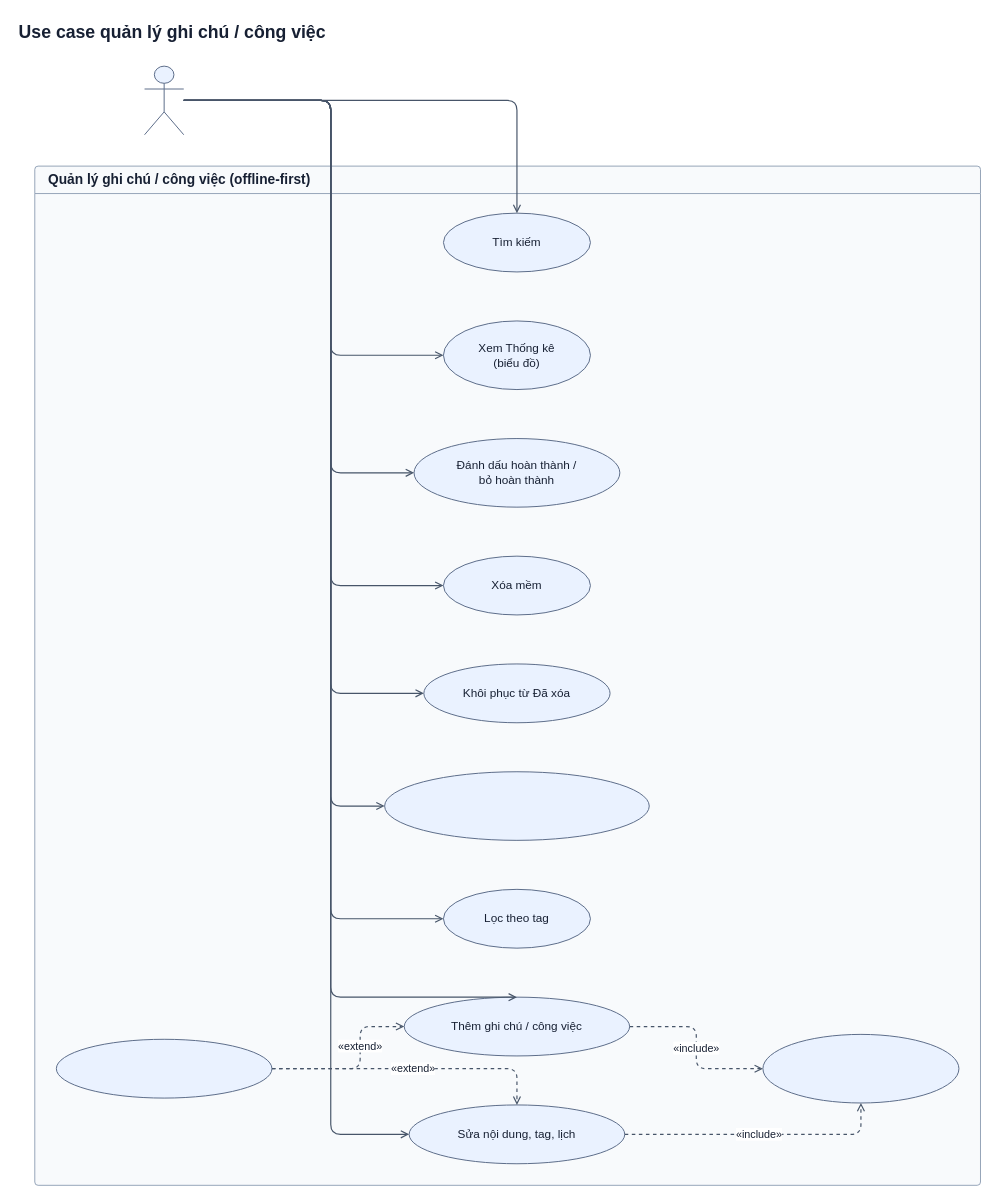
Image size: 998x1202. Some labels were removed from this diagram. Here are the shapes that lost their labels. From the top down, the centre of each, then its label:
the point at 164,100: Người dùng
the point at 516,805: Lọc theo trạng thái (Chưa xong/Đã xong/Quá hạn...)
the point at 163,1068: Định dạng Markdown-lite
the point at 860,1068: Kiểm tra lịch hợp lệ (hạn >= bắt đầu)
